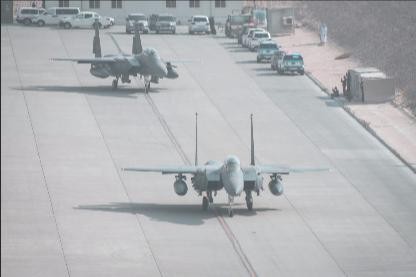F117: (119, 111, 330, 217), (48, 17, 202, 93)
